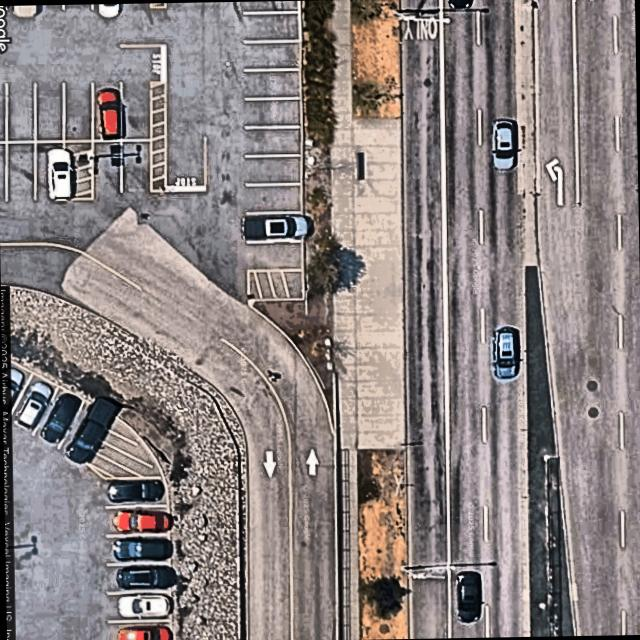car: (61, 392, 121, 468), (34, 389, 82, 448), (13, 378, 55, 433), (240, 211, 312, 241), (113, 565, 175, 591), (45, 147, 72, 201), (116, 593, 172, 618), (97, 86, 123, 139), (111, 511, 173, 533), (109, 539, 171, 561), (1, 362, 27, 412), (106, 481, 162, 503), (113, 626, 172, 640), (97, 3, 119, 17), (12, 5, 36, 17)
lot_boundary: (0, 0, 303, 298), (1, 356, 175, 640)
objects: (149, 82, 165, 192), (63, 141, 92, 199)
stall: (242, 40, 300, 72), (241, 68, 299, 100), (243, 154, 301, 186), (243, 125, 301, 156), (242, 183, 300, 214), (243, 212, 301, 243), (244, 240, 302, 271), (241, 11, 299, 42), (241, 98, 299, 129), (34, 83, 63, 141), (90, 83, 119, 141), (119, 139, 148, 197), (62, 84, 92, 140), (5, 84, 34, 141), (35, 142, 64, 199), (91, 140, 120, 197), (121, 83, 150, 140), (6, 141, 34, 199), (241, 0, 299, 12)
